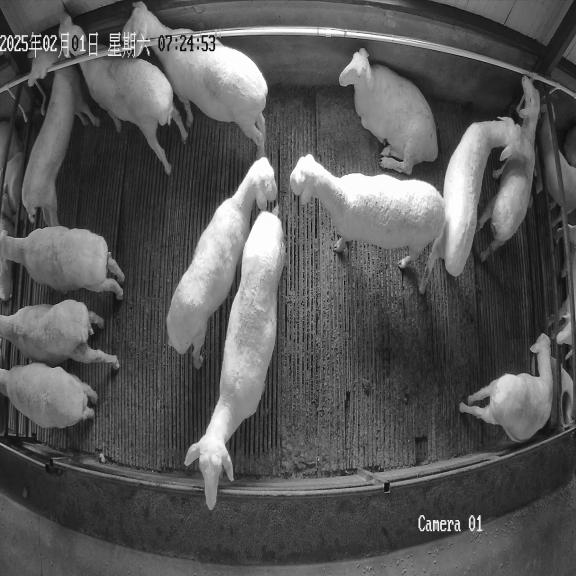lying: (339, 48, 438, 174)
stand: (184, 206, 285, 510), (167, 158, 276, 368), (121, 2, 268, 156), (58, 12, 187, 174), (419, 117, 520, 294), (290, 154, 445, 268), (22, 50, 99, 226), (477, 76, 540, 262), (459, 334, 555, 442), (0, 226, 124, 299), (0, 300, 119, 370), (0, 363, 97, 428)
